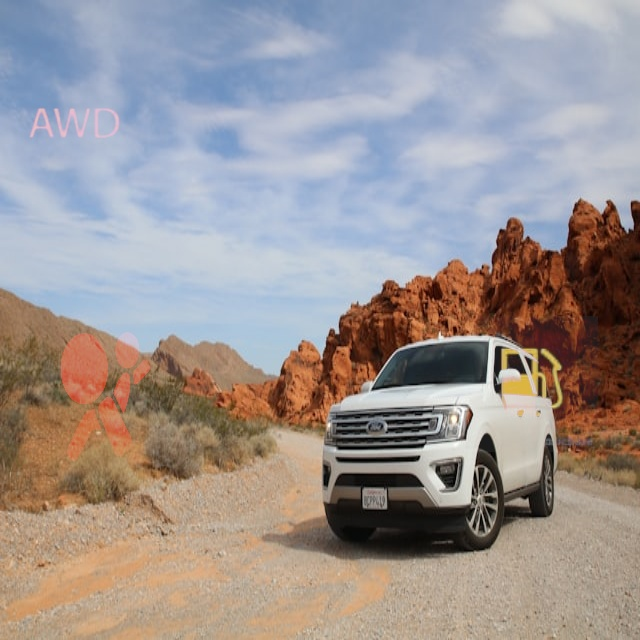symbol: (13, 306, 186, 479), (462, 316, 598, 452), (13, 64, 134, 185)
